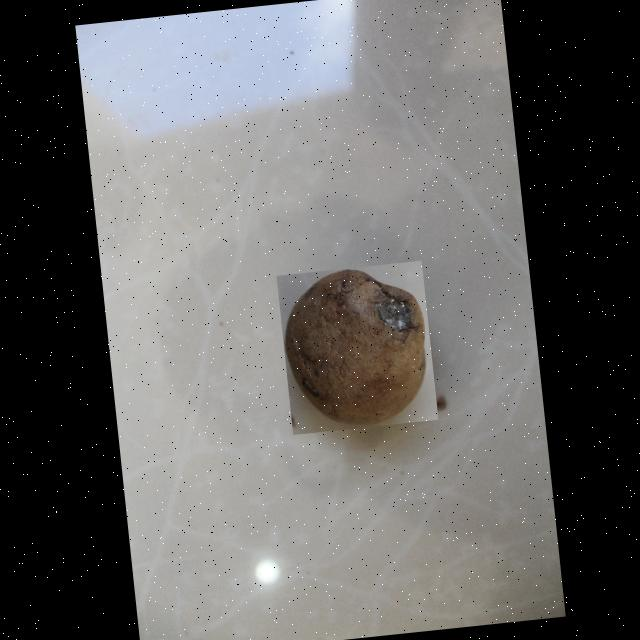Diseased-fungal potato: (276, 260, 438, 433)
